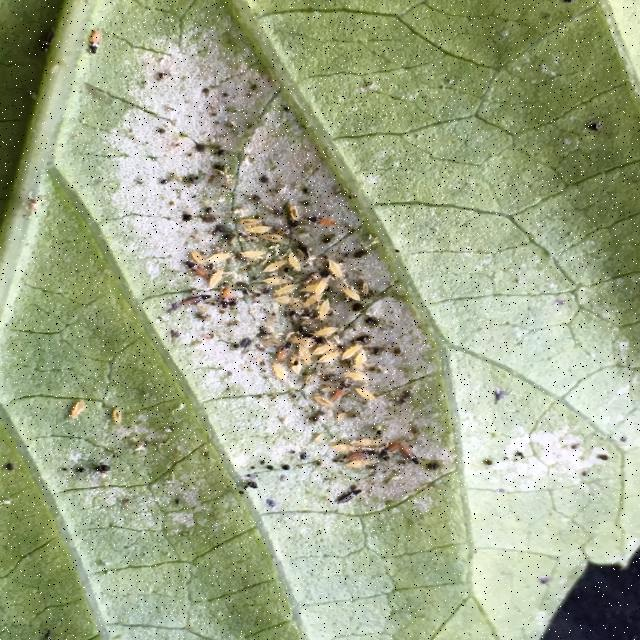Thrips: (130, 111, 481, 471)
